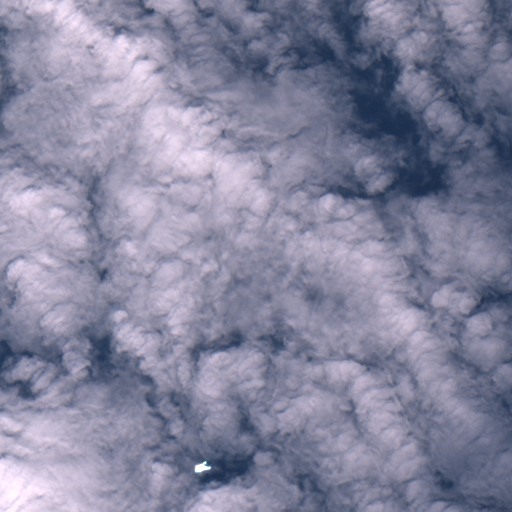Iceberg: (195, 461, 210, 472)
